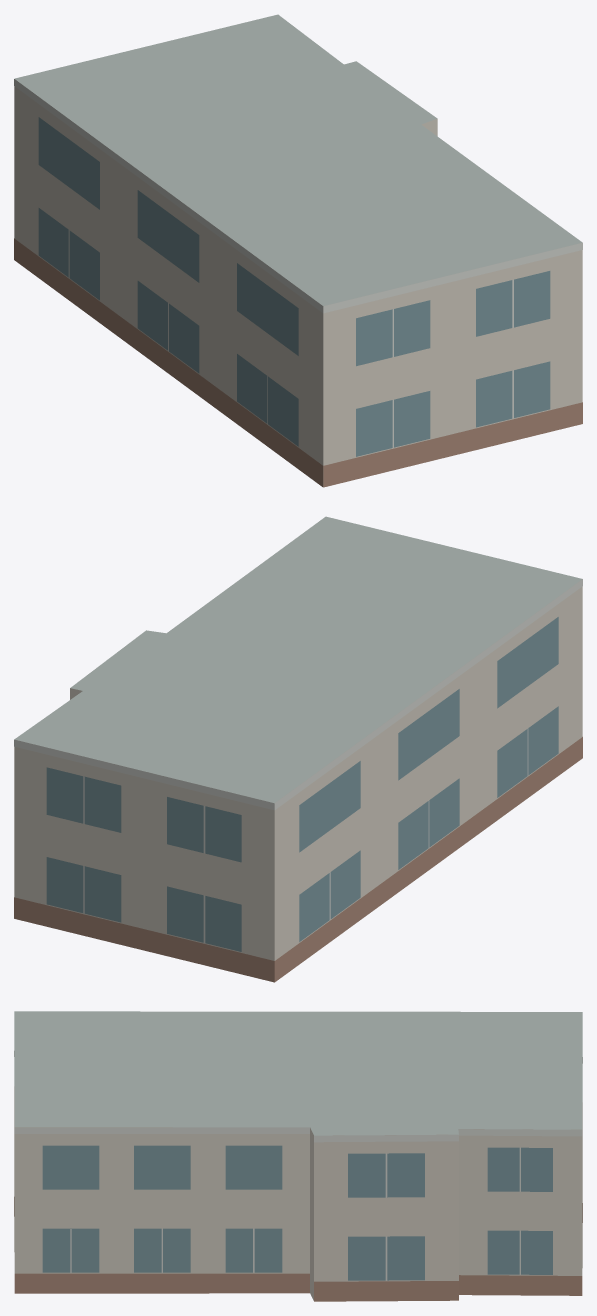
File: survey-upis-32819428.glb
The picture shows the model from 3 angles, top to bottom: view 1: azimuth 30°, elevation 25°; view 2: azimuth 150°, elevation 25°; view 3: azimuth 270°, elevation 25°; orthographic projection. The views are drawn at different scales.
Parts seen in each view (by area): view 1: survey-upis-32819428.tmp; view 2: survey-upis-32819428.tmp; view 3: survey-upis-32819428.tmp.
Part boxes in pixels (left/top/right/bottom): survey-upis-32819428.tmp: left=14, top=14, right=582, bottom=487; survey-upis-32819428.tmp: left=14, top=516, right=582, bottom=982; survey-upis-32819428.tmp: left=14, top=1011, right=582, bottom=1301.
Bounding box in the file's own units: 9.8 × 6.1 × 18.95.
